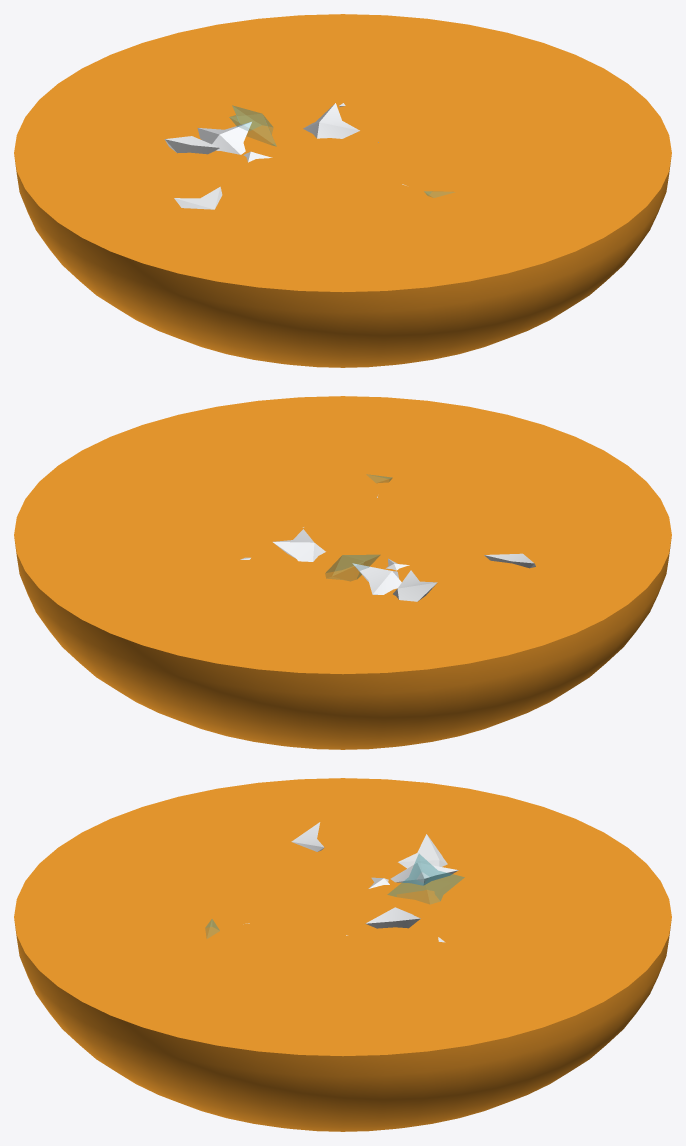
The model's file is kibble_star_bowl.glb.
3 views of the same model, one above another, from view 1: azimuth 30°, elevation 25°; view 2: azimuth 150°, elevation 25°; view 3: azimuth 270°, elevation 25° (orthographic).
Parts seen in each view (by area): view 1: bowl_outer, kibble13, kibble3, kibble8, kibble32, kibble20; view 2: bowl_outer, kibble8, kibble3, kibble13, kibble32; view 3: bowl_outer, kibble8, kibble13, kibble32, kibble3.
Boxes of the visible parts, bbox=[...] form: bowl_outer: bbox=[14, 14, 671, 367]; kibble13: bbox=[197, 121, 251, 154]; kibble3: bbox=[303, 103, 359, 138]; kibble8: bbox=[229, 105, 276, 146]; kibble32: bbox=[164, 136, 219, 154]; kibble20: bbox=[174, 186, 222, 209]; bowl_outer: bbox=[14, 396, 671, 749]; kibble8: bbox=[325, 555, 379, 580]; kibble3: bbox=[273, 529, 325, 561]; kibble13: bbox=[352, 563, 401, 594]; kibble32: bbox=[393, 570, 437, 601]; bowl_outer: bbox=[14, 778, 671, 1131]; kibble8: bbox=[387, 854, 464, 903]; kibble13: bbox=[390, 862, 458, 885]; kibble32: bbox=[398, 834, 447, 868]; kibble3: bbox=[365, 907, 420, 928].
Bounding box in the file's own units: 0.14 × 0.0448 × 0.14.
